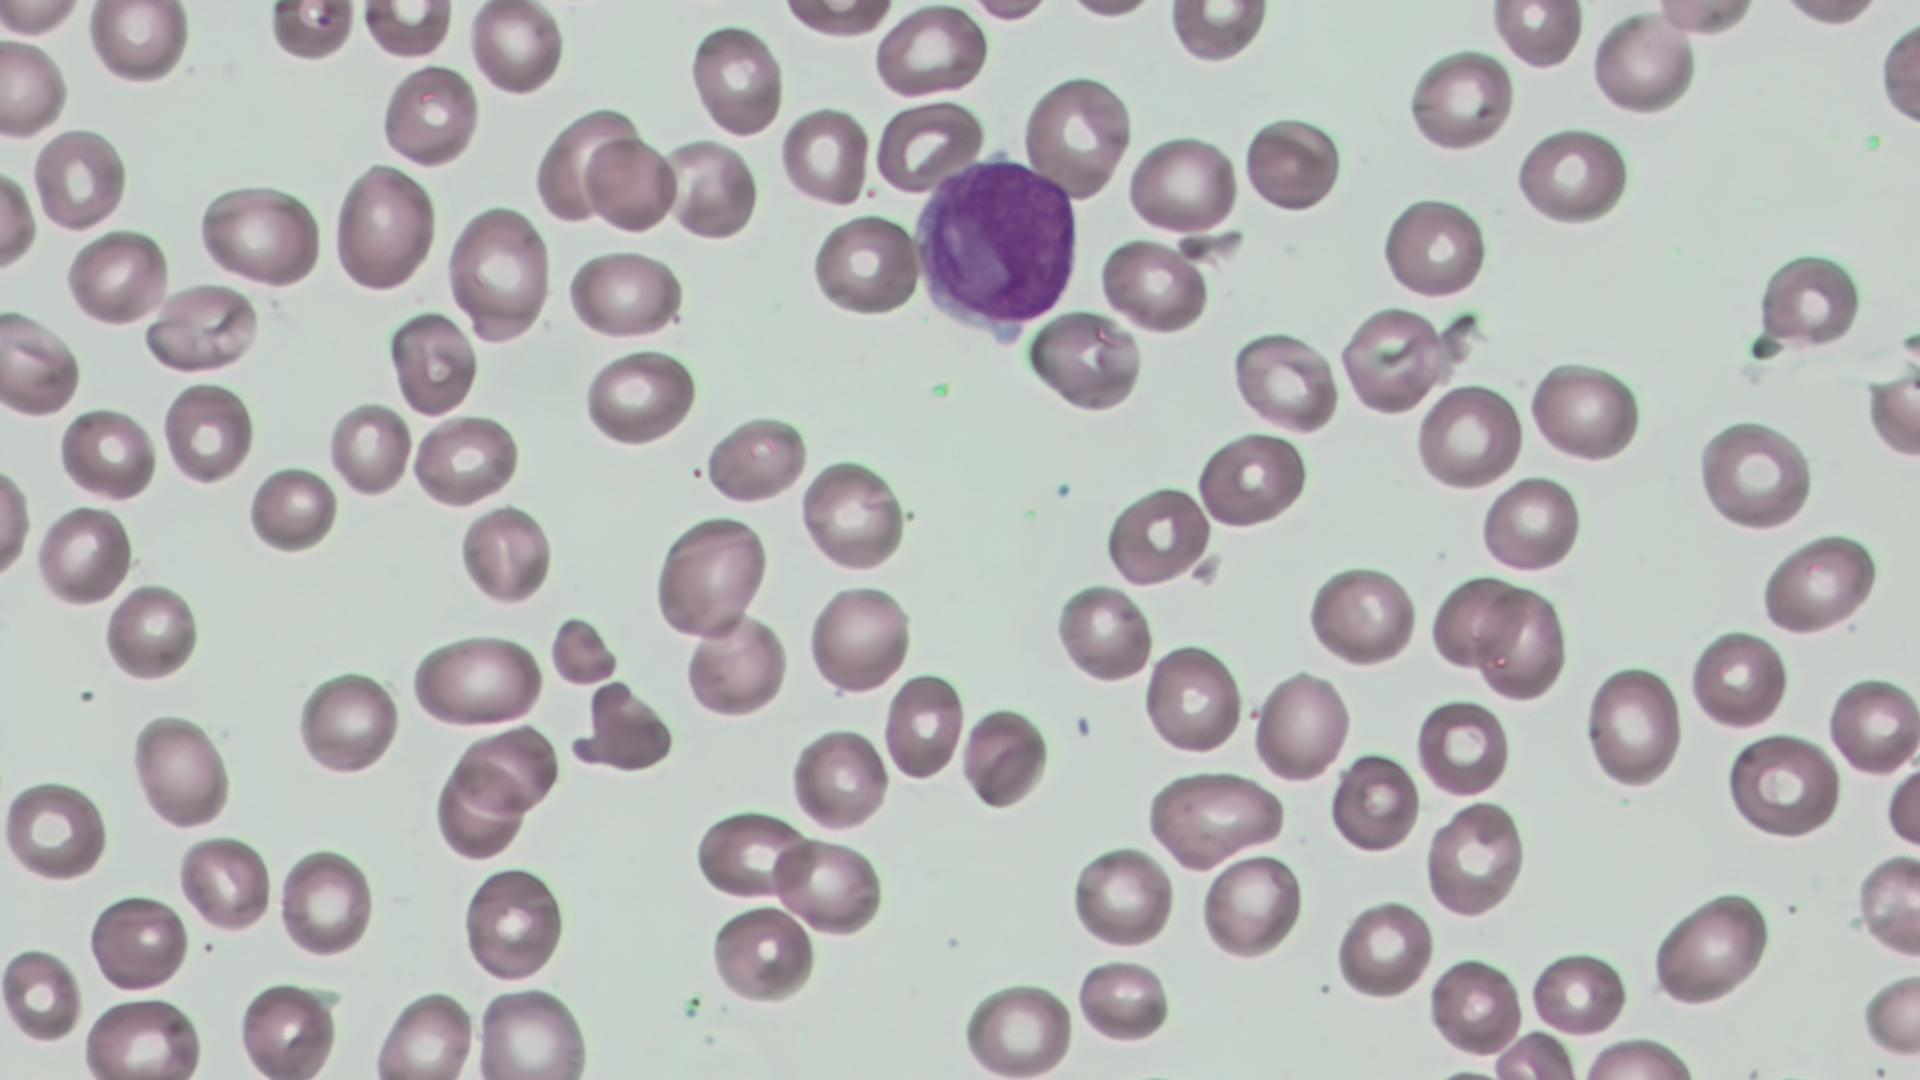RBC: (1650, 884, 1773, 1010), (446, 203, 553, 347), (1021, 69, 1133, 206), (651, 512, 769, 642), (331, 158, 438, 298), (1695, 414, 1815, 534), (1146, 767, 1286, 868), (1756, 528, 1882, 639), (195, 181, 323, 289), (408, 629, 546, 729), (1725, 727, 1842, 842), (1423, 794, 1528, 922), (798, 453, 908, 575), (805, 578, 914, 701), (1582, 661, 1684, 790), (1527, 356, 1644, 467), (532, 106, 639, 226), (1250, 665, 1354, 788), (459, 863, 565, 983), (127, 711, 232, 832), (1304, 560, 1418, 671), (1405, 44, 1516, 156), (1337, 303, 1447, 415), (1414, 381, 1524, 493), (1126, 130, 1240, 238), (580, 345, 698, 449), (1587, 7, 1698, 117), (682, 607, 789, 721), (1198, 849, 1305, 963), (562, 244, 685, 343), (1512, 124, 1629, 228), (1143, 640, 1245, 759), (1379, 192, 1489, 302), (809, 212, 922, 319), (959, 976, 1078, 1077), (1027, 308, 1141, 413), (276, 842, 376, 961), (767, 835, 886, 935), (1068, 840, 1174, 952), (688, 19, 786, 140), (1196, 428, 1310, 532), (1098, 234, 1212, 338), (1, 775, 110, 883), (872, 2, 990, 101), (1104, 480, 1212, 588), (1229, 328, 1339, 434), (708, 900, 818, 1006), (474, 981, 594, 1078), (294, 668, 399, 778), (693, 806, 811, 903), (1333, 894, 1435, 1005), (1472, 583, 1566, 703), (142, 281, 263, 374), (86, 889, 190, 997), (1688, 624, 1790, 734), (790, 723, 889, 836), (80, 992, 207, 1079), (381, 60, 480, 171), (32, 500, 132, 608), (1054, 579, 1154, 687), (1479, 472, 1582, 576), (236, 977, 341, 1079), (28, 124, 128, 231), (873, 99, 982, 197), (64, 227, 168, 329), (103, 580, 202, 687), (409, 411, 519, 507), (385, 308, 480, 418), (175, 831, 274, 936), (1426, 952, 1522, 1060), (581, 134, 680, 237), (1414, 695, 1511, 800), (1328, 748, 1421, 857), (456, 502, 553, 606), (960, 702, 1050, 814), (666, 135, 759, 243), (778, 103, 871, 211), (1242, 113, 1342, 213), (160, 380, 253, 487), (465, 1, 564, 100), (1826, 673, 1918, 779), (56, 404, 158, 499), (701, 413, 807, 504), (880, 671, 964, 785), (1527, 946, 1629, 1039), (370, 986, 475, 1076), (456, 723, 559, 814), (1071, 955, 1173, 1046), (431, 763, 526, 860), (326, 396, 414, 500), (1426, 572, 1517, 672), (0, 307, 81, 419), (83, 3, 191, 87), (3, 940, 84, 1048), (247, 463, 339, 555), (1862, 318, 1918, 466), (0, 34, 70, 141), (1854, 852, 1920, 960), (1490, 2, 1586, 73), (1167, 1, 1270, 66), (357, 1, 458, 64), (1858, 964, 1920, 1062), (266, 2, 359, 67), (1575, 1030, 1698, 1078), (1875, 12, 1920, 136), (776, 0, 896, 41), (0, 156, 39, 282), (1489, 1026, 1578, 1078), (0, 451, 32, 591), (1881, 756, 1920, 860), (0, 0, 86, 38)
WBC: (909, 149, 1082, 347)
